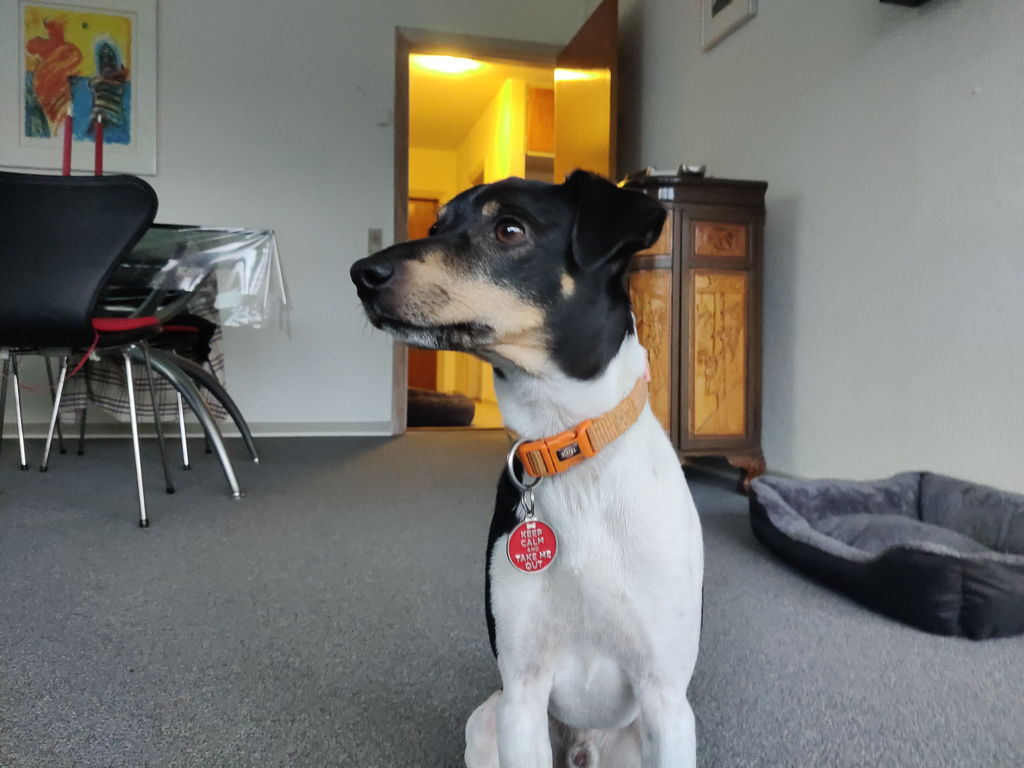Dog: (339, 154, 717, 768)
